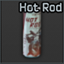Hot Rod energy drink: (0, 0, 64, 64)
